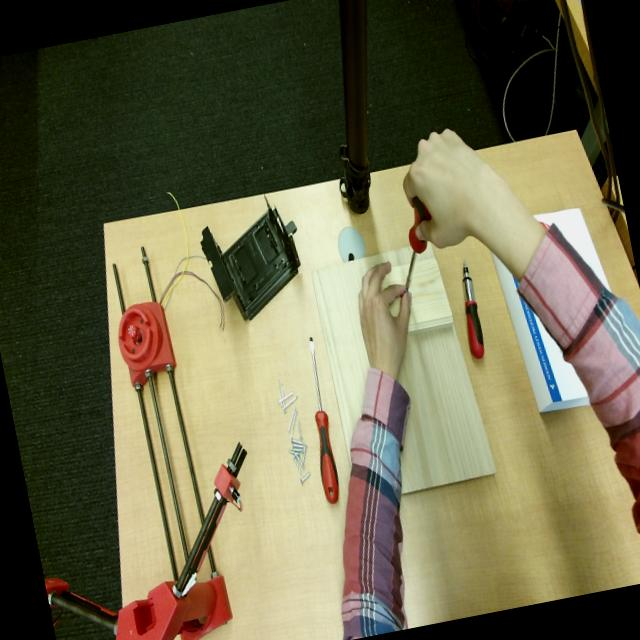screwdriver: (309, 338, 339, 504), (405, 198, 431, 292), (463, 262, 484, 359)
